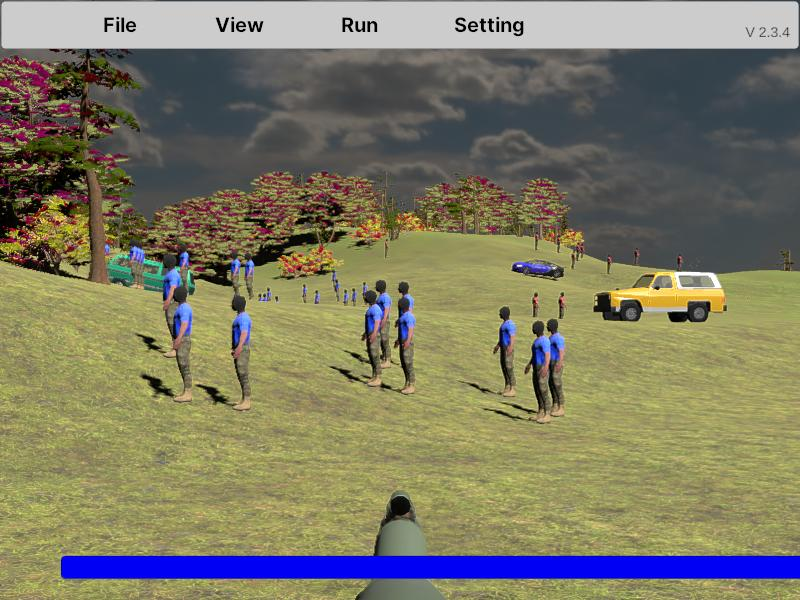Human: (524, 321, 550, 423), (171, 284, 193, 402), (170, 286, 192, 403), (231, 295, 252, 412), (231, 294, 251, 411), (542, 318, 565, 419), (161, 255, 183, 355), (394, 298, 416, 394), (493, 307, 516, 397), (362, 289, 383, 386), (374, 280, 393, 370)
car: (593, 271, 726, 324), (107, 250, 194, 298), (510, 258, 565, 279)
